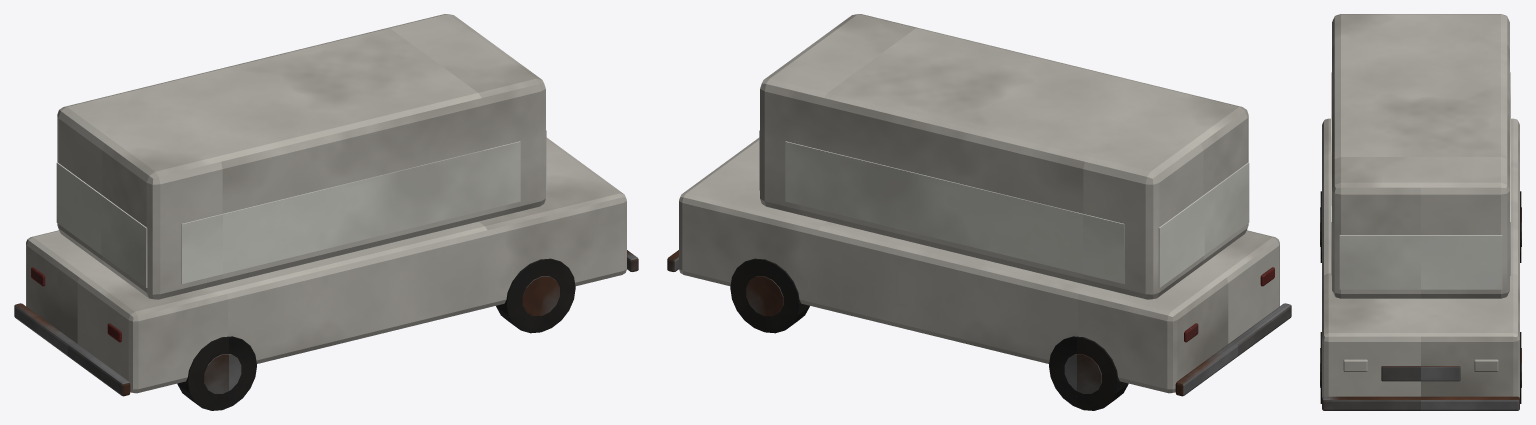
Rendered from CV06_minivan.glb.
3 renders of one model, left to right at view 1: azimuth 30°, elevation 25°; view 2: azimuth 150°, elevation 25°; view 3: azimuth 270°, elevation 25°, orthographic. The views are drawn at different scales.
Visible parts, largest first — view 1: CV06_minivan; view 2: CV06_minivan; view 3: CV06_minivan.
Part boxes in pixels (<box>): CV06_minivan: <box>14,14,638,410</box>; CV06_minivan: <box>667,14,1291,410</box>; CV06_minivan: <box>1320,14,1521,410</box>.
Size of the model in its own units: 4.6 by 2.07 by 1.72.
6 materials, 6 textured.
